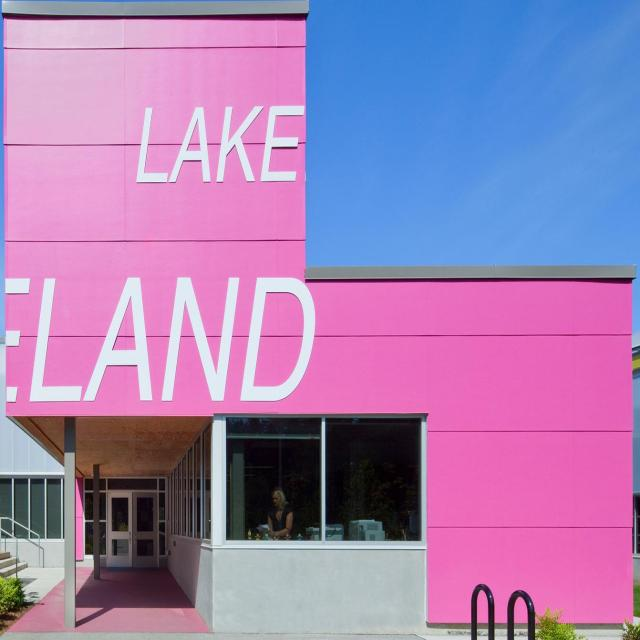door: (104, 490, 159, 570)
window: (226, 415, 424, 539)
